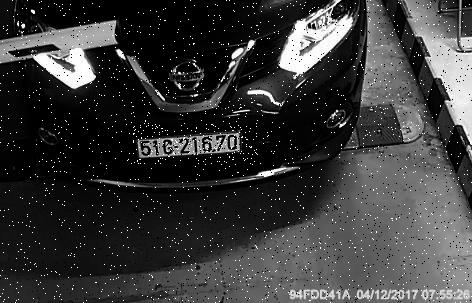License-plate: (135, 124, 259, 165)
